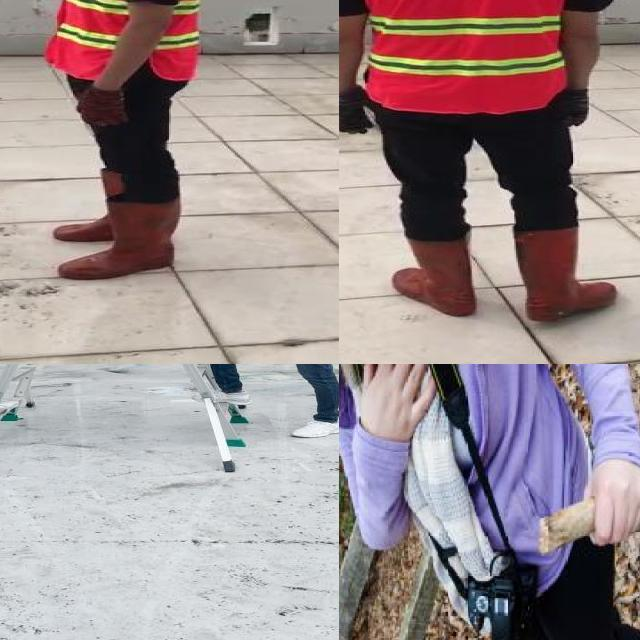boots: (509, 227, 619, 321), (55, 200, 183, 279), (51, 164, 168, 244), (390, 235, 479, 318)
hand_glove: (75, 87, 126, 126), (339, 92, 375, 135), (558, 88, 592, 129)
hand_noglove: (572, 444, 640, 550), (339, 364, 451, 424)
person: (339, 0, 640, 330), (339, 364, 640, 640), (31, 0, 225, 282), (191, 364, 339, 445)
shoes: (191, 381, 254, 407), (286, 413, 339, 441)
vest: (356, 0, 576, 109), (49, 0, 204, 82)
